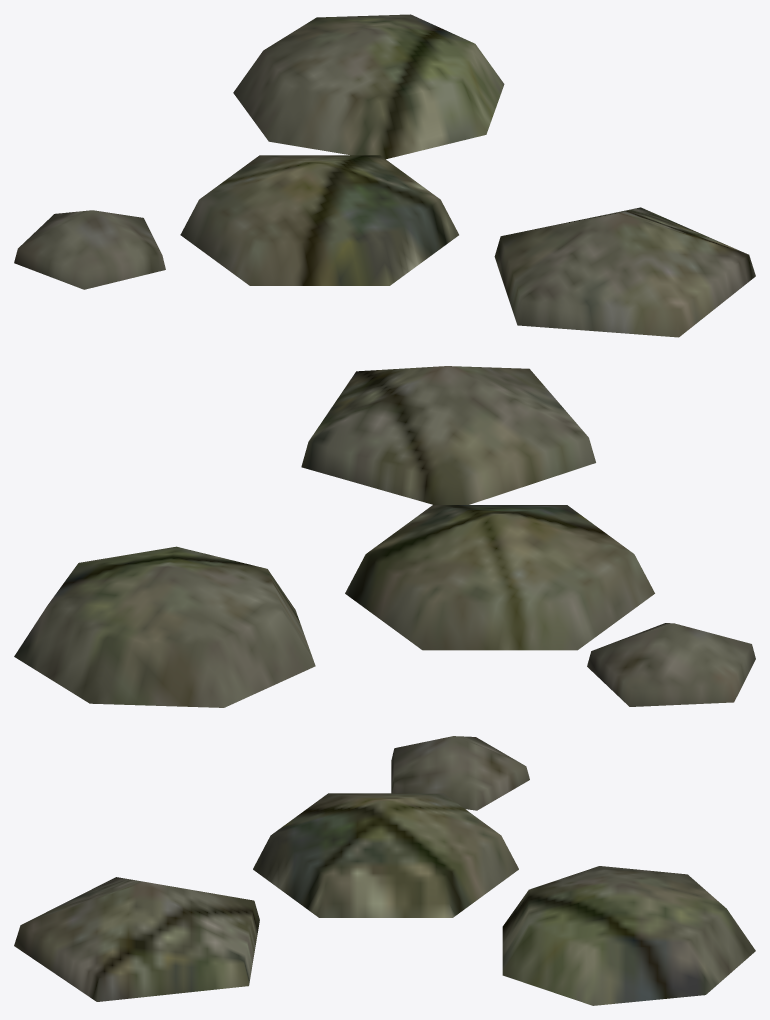
Rendered from Rocks Small.FBX.
The picture shows the model from 3 angles, top to bottom: view 1: azimuth 30°, elevation 25°; view 2: azimuth 150°, elevation 25°; view 3: azimuth 270°, elevation 25°; orthographic projection. The views are drawn at different scales.
Visible parts, largest first — view 1: Sphere003, Sphere002, Sphere004, Sphere001; view 2: Sphere003, Sphere002, Sphere004, Sphere001; view 3: Sphere003, Sphere002, Sphere004, Sphere001.
Boxes of the visible parts, x1,y1,x2,y2 form: Sphere003: [233, 14, 504, 159]; Sphere002: [180, 155, 458, 285]; Sphere004: [494, 207, 755, 337]; Sphere001: [14, 210, 165, 289]; Sphere003: [14, 546, 315, 707]; Sphere002: [345, 505, 654, 650]; Sphere004: [301, 366, 595, 504]; Sphere001: [587, 623, 755, 706]; Sphere003: [502, 866, 755, 1005]; Sphere002: [253, 793, 518, 917]; Sphere004: [14, 877, 259, 1001]; Sphere001: [391, 736, 529, 810].
Size of the model in its own units: 90.42 by 11.11 by 110.
1 material, 1 textured.
